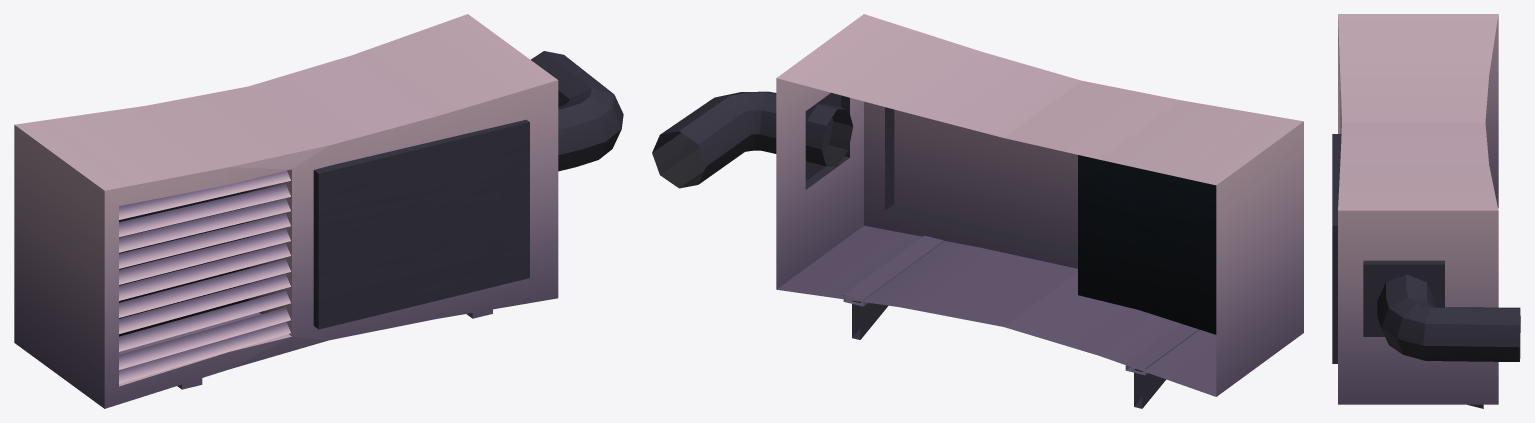
The model's file is Air_Conditioning_Unit.fbx.
3 views of the same model, side by side, from view 1: azimuth 30°, elevation 25°; view 2: azimuth 150°, elevation 25°; view 3: azimuth 270°, elevation 25° (orthographic). The views are drawn at different scales.
Visible parts, largest first — view 1: Air Conditioning Unit; view 2: Air Conditioning Unit; view 3: Air Conditioning Unit.
Boxes of the visible parts, left/top/right/bottom form: Air Conditioning Unit: left=14, top=14, right=623, bottom=408; Air Conditioning Unit: left=652, top=14, right=1303, bottom=408; Air Conditioning Unit: left=1332, top=14, right=1520, bottom=408.
Size of the model in its own units: 251 by 108 by 80.84.
